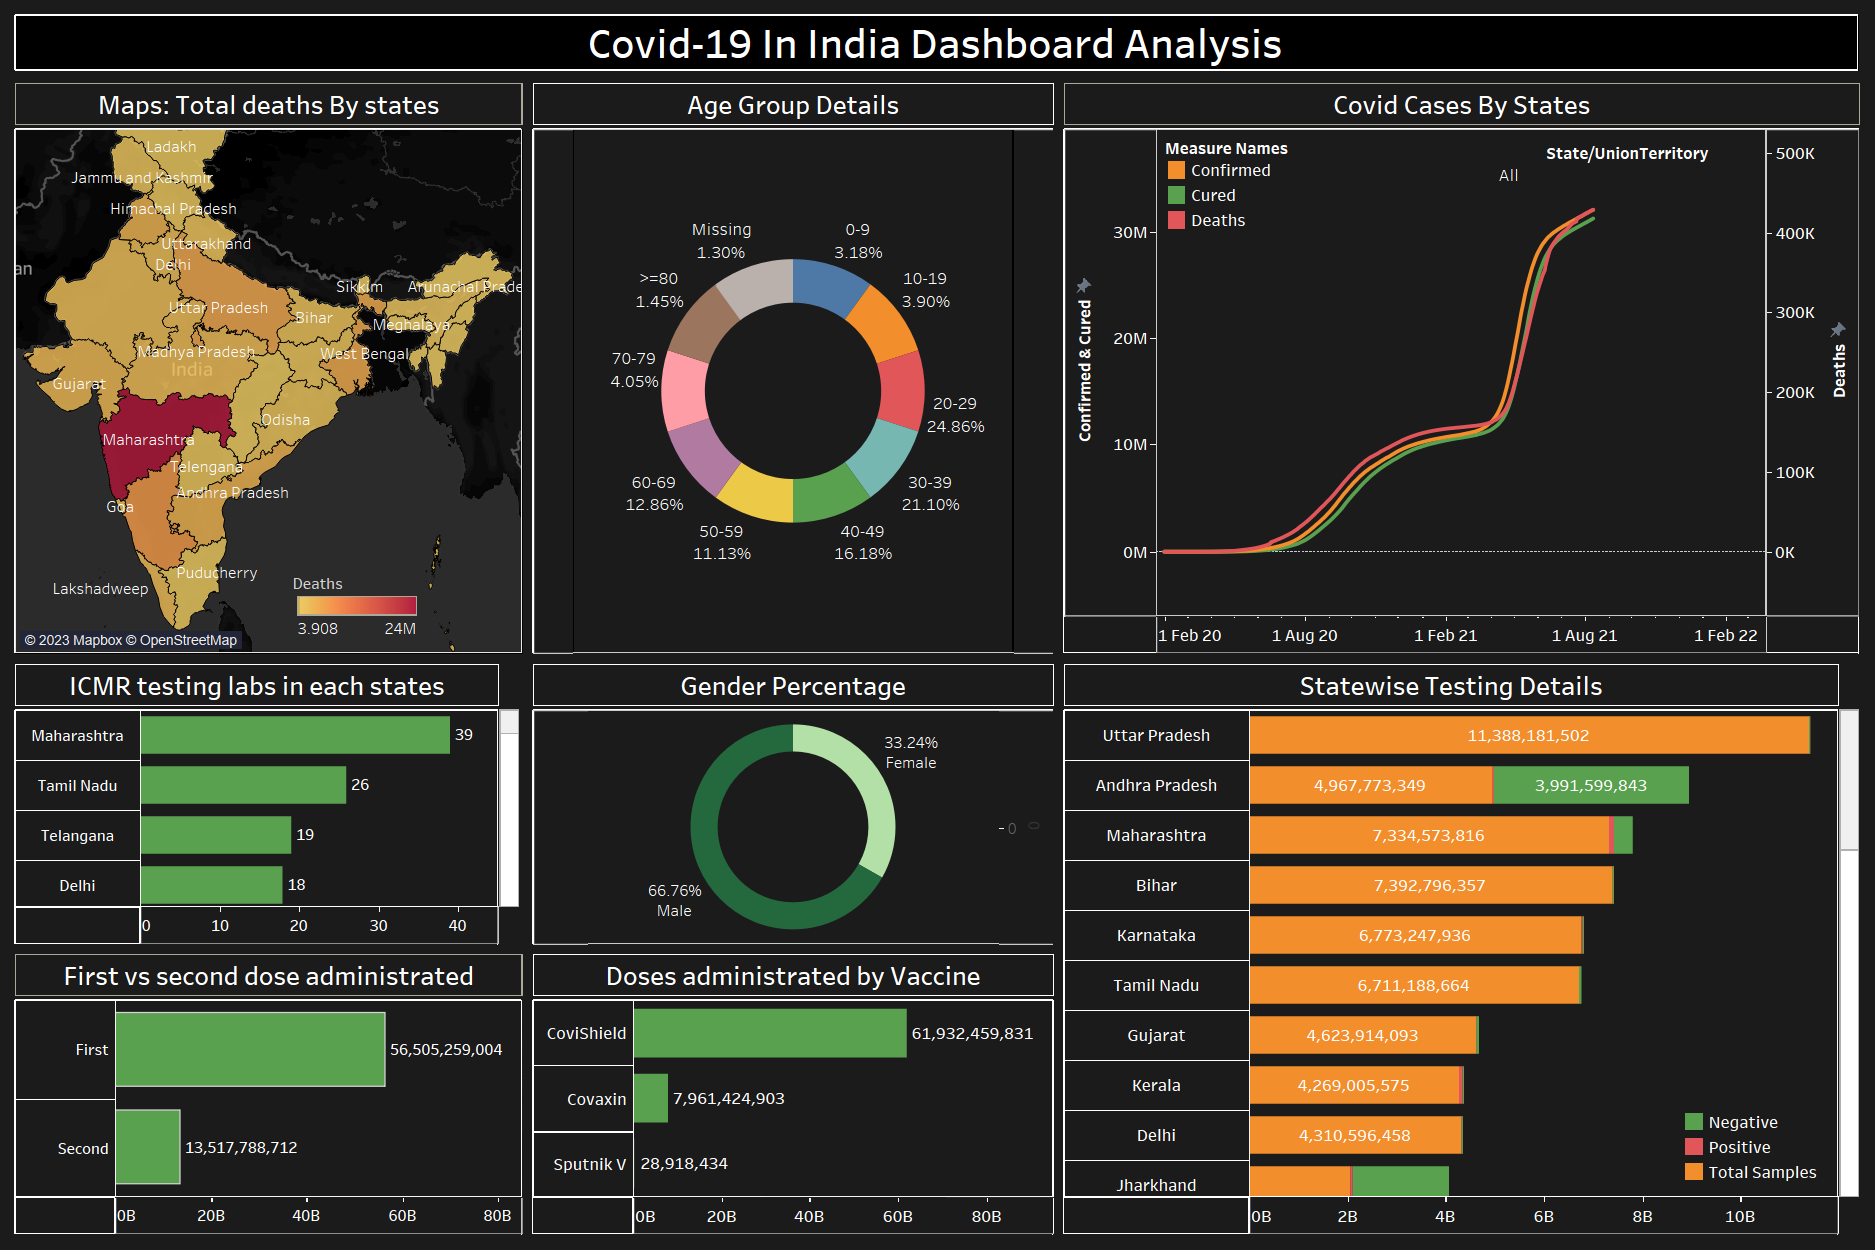

What the dashboard file says about the page in this screenshot:
{"tool":"tableau","page":{"name":"Dashboard 1","canvas":[1500,1000],"ordinal":0},"visuals":[{"type":"worksheet","title":"Title","mark":"Automatic","box":[8,8,1484,54]},{"type":"worksheet","title":"Maps: Total deaths By states","mark":"Automatic","box":[8,62,414,464.9]},{"type":"worksheet","title":"Age Group Details","mark":"Pie","rows":["Calculation_1146447608500736006","Calculation_1146447608500838408"],"box":[422,62,425.2,464.9]},{"type":"worksheet","title":"Covid Cases By States","mark":"Line","rows":["Deaths"],"cols":["Date"],"box":[847.2,62,644.8,464.9]},{"type":"legend","title":"Covid Cases By States","param":"[federated.05zbc3m0onahco1cc4ijz0yyt2lp].[:Measure Names]","box":[931,107,149,86]},{"type":"filter","title":"Covid Cases By States","param":"[federated.05zbc3m0onahco1cc4ijz0yyt2lp].[none:State/UnionTerritory:nk]","box":[1197,112,210,44]},{"type":"legend","title":"Maps: Total deaths By states","param":"[federated.05zbc3m0onahco1cc4ijz0yyt2lp].[sum:Deaths:qk]","box":[234,454,104,53]},{"type":"worksheet","title":"ICMR testing labs in each states","mark":"Automatic","rows":["state"],"cols":["lab"],"box":[8,526.9,414,232.5]},{"type":"worksheet","title":"Gender Percentage","mark":"Pie","rows":["Calculation_1146447608509779978","Calculation_1146447608509788172"],"box":[422,526.9,425.2,232.6]},{"type":"worksheet","title":"Statewise Testing Details","mark":"Automatic","rows":["State"],"box":[847.2,526.9,644.8,465.1]},{"type":"worksheet","title":"First vs second dose administrated","mark":"Automatic","box":[8,759.4,414,232.6]},{"type":"worksheet","title":"Doses administrated by Vaccine","mark":"Automatic","box":[422,759.5,425.2,232.6]},{"type":"legend","title":"Statewise Testing Details","param":"[federated.0hxji4r0hltrbv16j521r1wh2pgi].[:Measure Names]","box":[1345,887,117,69]}]}

Visuals, with their boxes in screenshot pixels (x1, y1, x2, y2), scaled from the page's 1500x1000 canvas onto the 1875x1250 screenshot:
"Title" worksheet: {"left": 10, "top": 10, "right": 1865, "bottom": 78}
"Maps: Total deaths By states" worksheet: {"left": 10, "top": 78, "right": 528, "bottom": 659}
"Age Group Details" worksheet (Pie marks): {"left": 528, "top": 78, "right": 1059, "bottom": 659}
"Covid Cases By States" worksheet (Line marks): {"left": 1059, "top": 78, "right": 1865, "bottom": 659}
"Covid Cases By States" legend: {"left": 1164, "top": 134, "right": 1350, "bottom": 241}
"Covid Cases By States" filter: {"left": 1496, "top": 140, "right": 1759, "bottom": 195}
"Maps: Total deaths By states" legend: {"left": 292, "top": 568, "right": 422, "bottom": 634}
"ICMR testing labs in each states" worksheet: {"left": 10, "top": 659, "right": 528, "bottom": 949}
"Gender Percentage" worksheet (Pie marks): {"left": 528, "top": 659, "right": 1059, "bottom": 949}
"Statewise Testing Details" worksheet: {"left": 1059, "top": 659, "right": 1865, "bottom": 1240}
"First vs second dose administrated" worksheet: {"left": 10, "top": 949, "right": 528, "bottom": 1240}
"Doses administrated by Vaccine" worksheet: {"left": 528, "top": 949, "right": 1059, "bottom": 1240}
"Statewise Testing Details" legend: {"left": 1681, "top": 1109, "right": 1828, "bottom": 1195}
